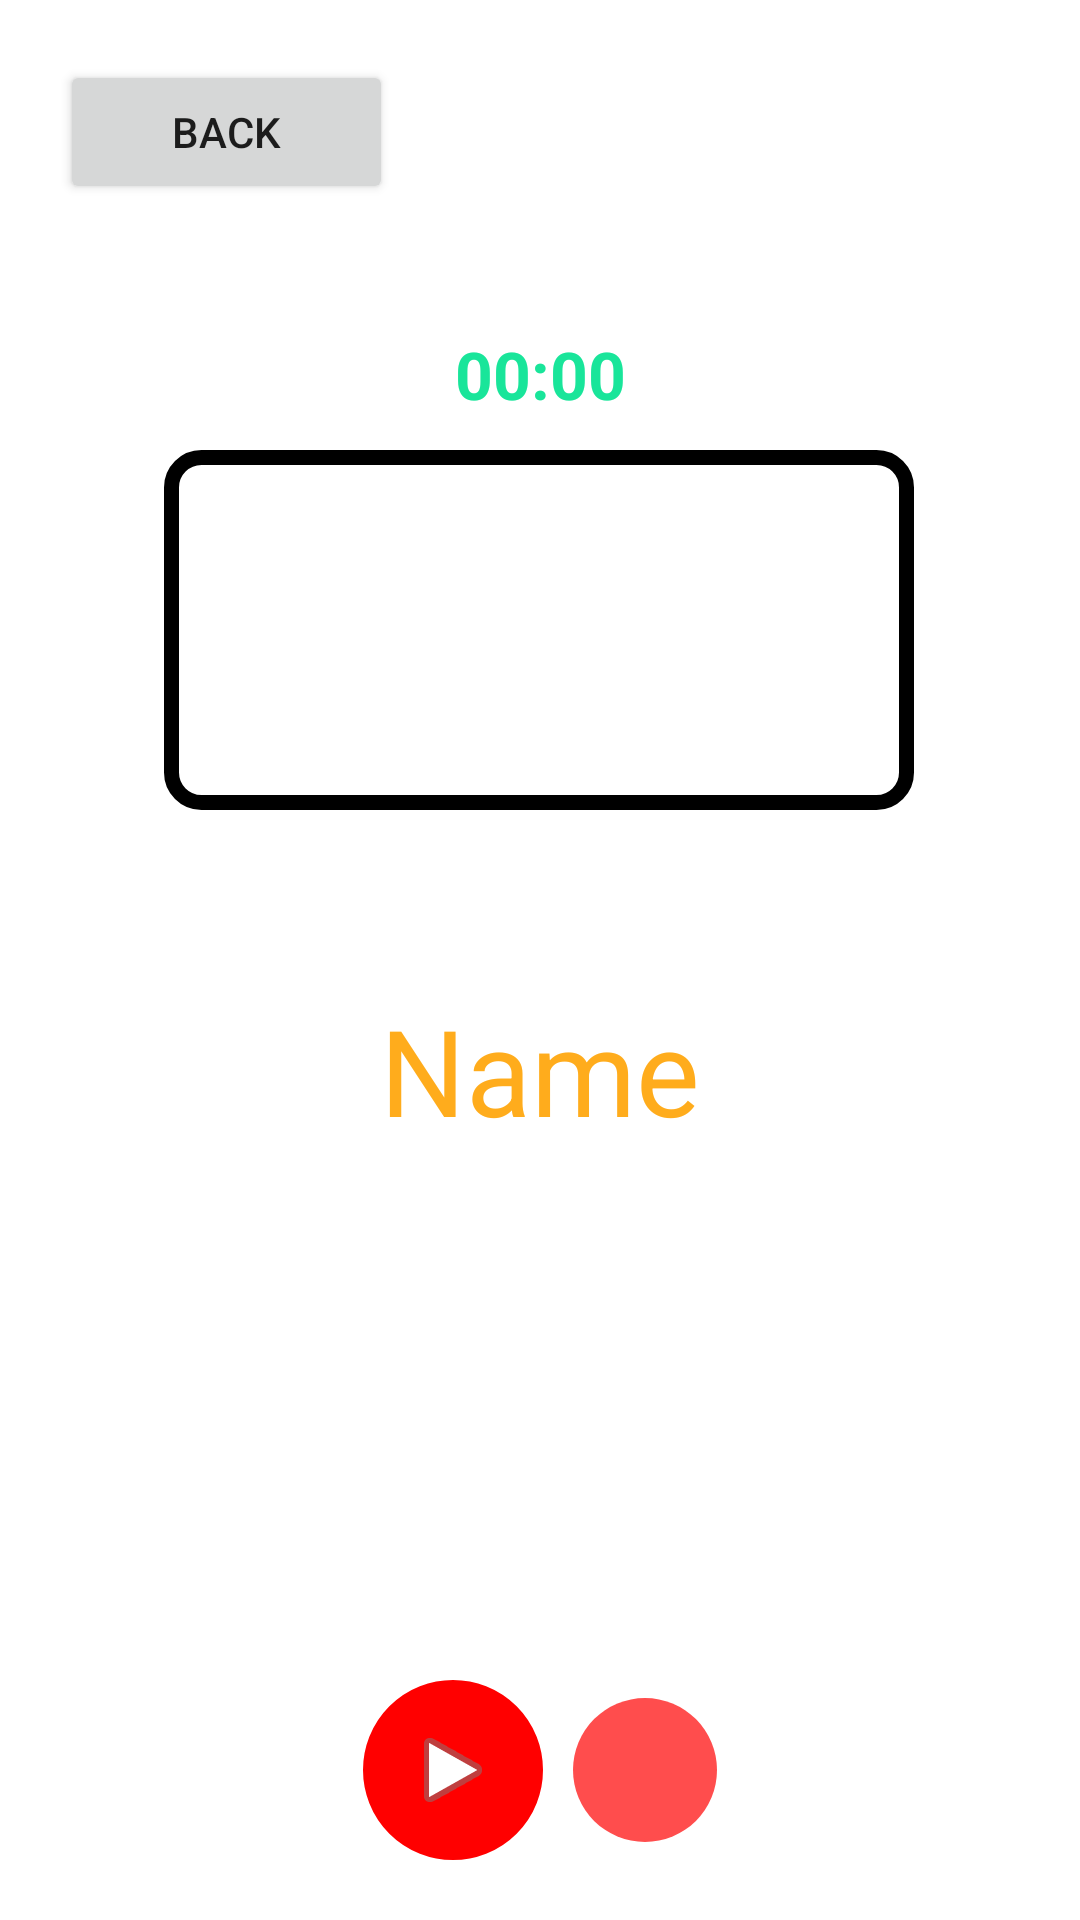

Screen size 1080 x 1920. Icon name, then its center in pixels as (x,y):
play: (453,1770)
